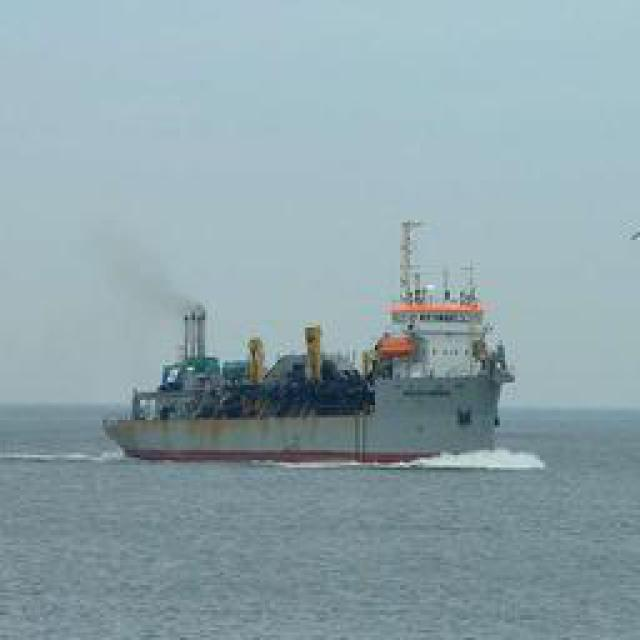Ship: (107, 231, 527, 464)
